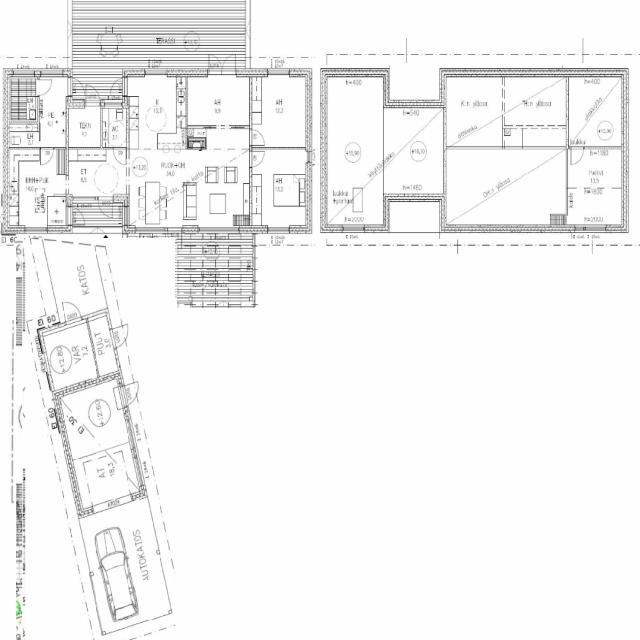door: (118, 381, 144, 407), (61, 296, 81, 326), (109, 324, 132, 349), (66, 78, 87, 96), (86, 83, 100, 109), (98, 194, 112, 220), (108, 78, 128, 96), (66, 207, 86, 224), (168, 225, 181, 250), (209, 52, 222, 77), (222, 52, 235, 77), (249, 152, 265, 168), (571, 146, 584, 165), (37, 80, 52, 95), (250, 130, 264, 145), (113, 148, 126, 164), (41, 148, 53, 164)
